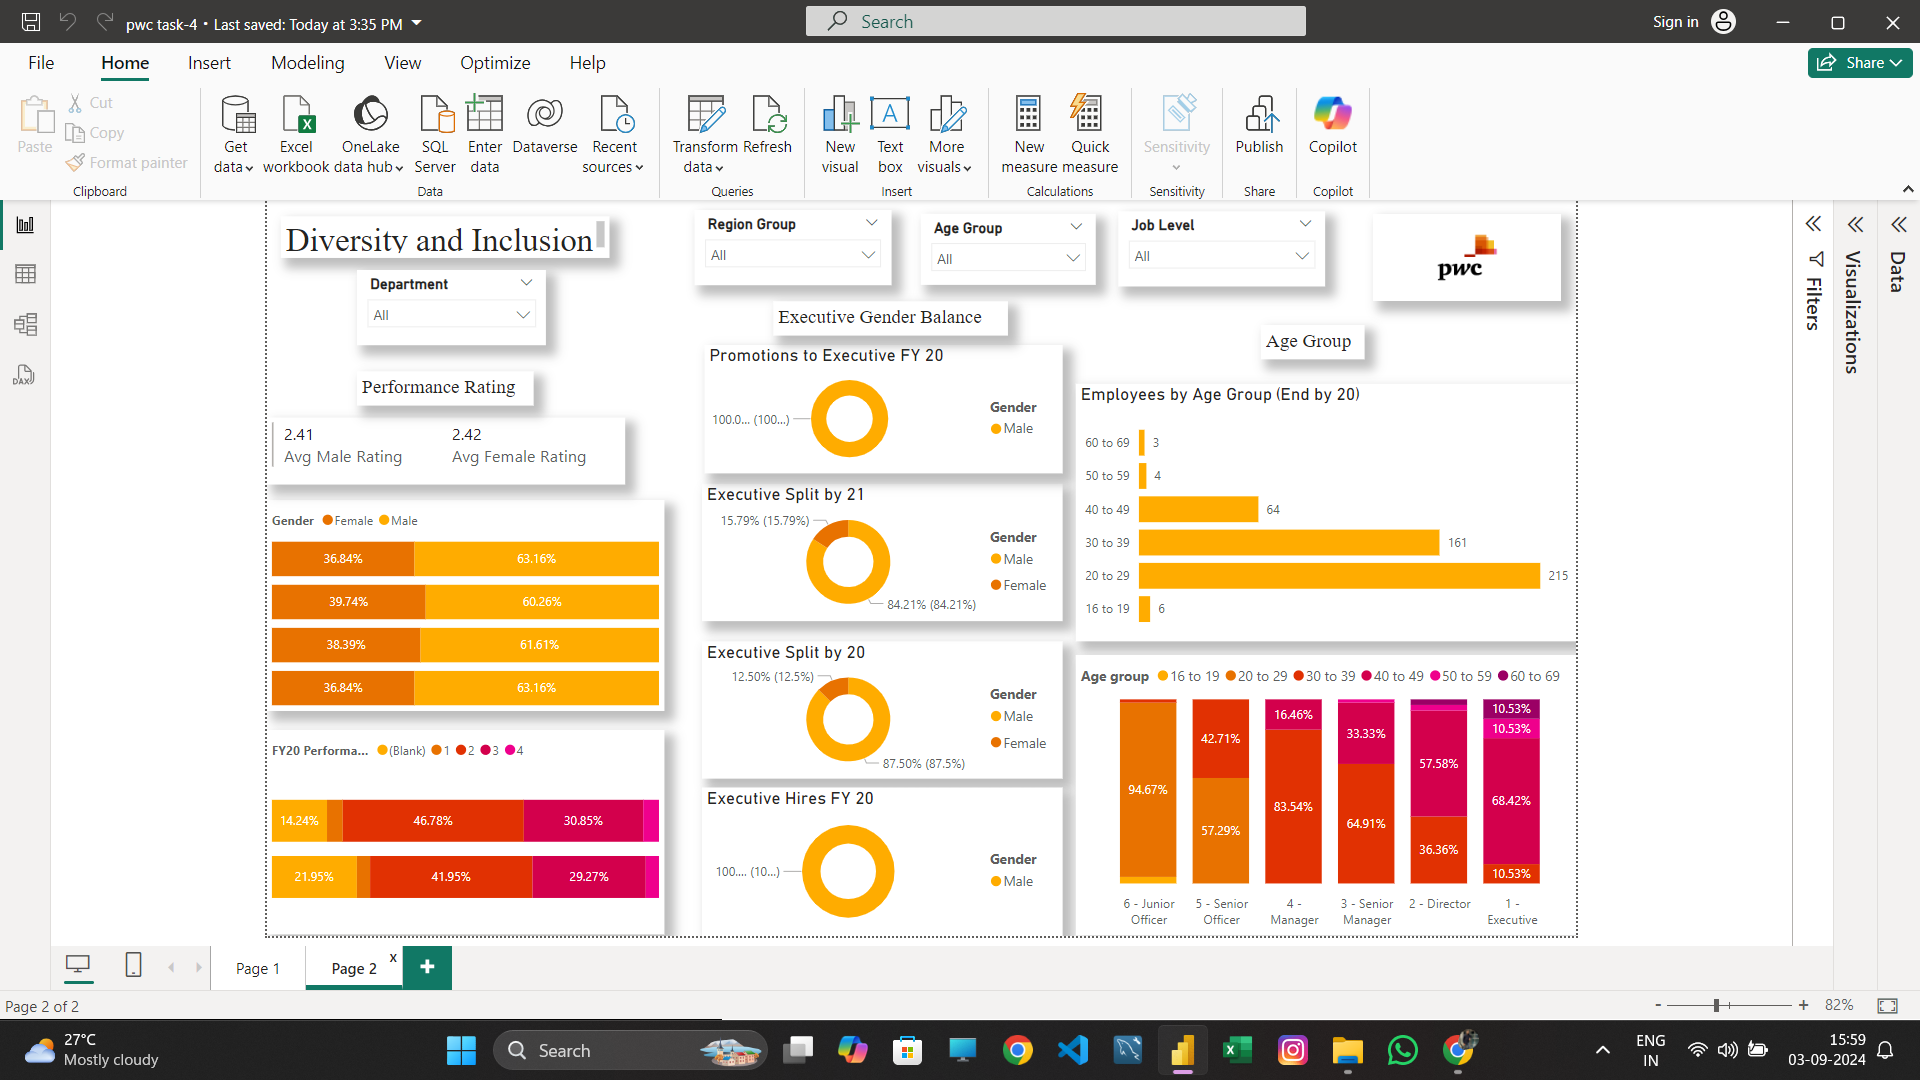

This screenshot's page, from the dashboard's own definition file:
{"tool":"powerbi","page":{"name":"Page 2","canvas":[1280,720],"ordinal":1},"visuals":[{"type":"textbox","box":[13.7,16.1,321.6,41],"z":0},{"type":"slicer","fields":{"Values":["Pharma Group AG.Last Department in FY20"]},"box":[88.2,68.3,185,73.3],"z":1000},{"type":"slicer","fields":{"Values":["Pharma Group AG.Region group: nationality 1"]},"box":[418.5,9.9,192.5,73.3],"z":2000},{"type":"slicer","fields":{"Values":["Pharma Group AG.Age group"]},"box":[639.5,13.7,171.4,69.5],"z":3000},{"type":"slicer","fields":{"Values":["Pharma Group AG.Job Level after FY20 promotions"]},"box":[833.2,11.2,202.4,73.3],"z":4000},{"type":"hundredPercentStackedBarChart","fields":{"Category":["Pharma Group AG.FY20 Performance Rating"],"Y":["Divide(CountNonNull(Pharma Group AG.Employee ID), ScopedEval(CountNonNull(Pharma Group AG.Employee ID), []))"],"Series":["Pharma Group AG.Gender"]},"box":[0,293.1,388.7,206.1],"z":5000},{"type":"hundredPercentStackedBarChart","fields":{"Category":["Pharma Group AG.Gender"],"Y":["Divide(CountNonNull(Pharma Group AG.Employee ID), ScopedEval(CountNonNull(Pharma Group AG.Employee ID), []))"],"Series":["Pharma Group AG.FY20 Performance Rating"]},"box":[0,519.1,388.7,199.9],"z":6000},{"type":"donutChart","title":"Executive Split by 20","fields":{"Category":["Pharma Group AG.Gender"],"Y":["CountNonNull(Pharma Group AG.Employee ID)"],"Series":["Pharma Group AG.Job Level after FY20 promotions"]},"box":[425.9,432.1,352.7,134.1],"z":7000},{"type":"donutChart","title":"Executive Split by 21","fields":{"Category":["Pharma Group AG.Gender"],"Y":["CountNonNull(Pharma Group AG.Employee ID)"],"Series":["Pharma Group AG.Job Level after FY21 promotions"]},"box":[425.9,278.2,352.7,134.1],"z":8000},{"type":"donutChart","title":"Executive Hires FY 20","fields":{"Category":["Pharma Group AG.Gender"],"Y":["CountNonNull(Pharma Group AG.Employee ID)"],"Series":["Pharma Group AG.Job Level after FY20 promotions"]},"box":[425.9,574.9,352.7,145.3],"z":9000},{"type":"donutChart","title":"Promotions to Executive FY 20","fields":{"Category":["Pharma Group AG.Gender"],"Y":["CountNonNull(Pharma Group AG.Employee ID)"],"Series":["Pharma Group AG.Job Level after FY20 promotions"]},"box":[428.4,141.6,350.2,125.4],"z":10000},{"type":"clusteredBarChart","title":"Employees by Age Group (End by 20)","fields":{"Category":["Pharma Group AG.Age group"],"Y":["CountNonNull(Pharma Group AG.Employee ID)"]},"box":[791,180.1,489.3,252.1],"z":11000},{"type":"hundredPercentStackedColumnChart","fields":{"Series":["Pharma Group AG.Age group"],"Category":["Pharma Group AG.Job Level after FY21 promotions"],"Y":["CountNonNull(Pharma Group AG.Employee ID)"]},"box":[791,444.5,489.3,274.4],"z":12000},{"type":"multiRowCard","fields":{"Values":["Pharma Group AG.Avg Male Rating","Pharma Group AG.Avg Female Rating"]},"box":[0,212.3,350.2,65.8],"z":13000},{"type":"textbox","box":[88.2,167.6,172.6,33.5],"z":14000},{"type":"textbox","box":[495.5,99.3,229.7,33.5],"z":15000},{"type":"textbox","box":[972.3,121.7,101.8,33.5],"z":16000},{"type":"image","box":[1082.8,13.7,183.8,85.7],"z":16001}]}

Visuals, with their boxes on the page's 1280x720 design canvas (x1, y1, x2, y2). These are canvas units, not pixel positions in the 1920x1080 screenshot, which may show the page scaled, cropped or inside an application window:
textbox: x1=14, y1=16, x2=335, y2=57
slicer - Pharma Group AG.Last Department in FY20: x1=88, y1=68, x2=273, y2=142
slicer - Pharma Group AG.Region group: nationality 1: x1=418, y1=10, x2=611, y2=83
slicer - Pharma Group AG.Age group: x1=640, y1=14, x2=811, y2=83
slicer - Pharma Group AG.Job Level after FY20 promotions: x1=833, y1=11, x2=1036, y2=84
hundredPercentStackedBarChart - Pharma Group AG.FY20 Performance Rating x Divide(CountNonNull(Pharma Group AG.Employee ID), ScopedEval(CountNonNull(Pharma Group AG.Employee ID), [])): x1=0, y1=293, x2=389, y2=499
hundredPercentStackedBarChart - Pharma Group AG.Gender x Divide(CountNonNull(Pharma Group AG.Employee ID), ScopedEval(CountNonNull(Pharma Group AG.Employee ID), [])): x1=0, y1=519, x2=389, y2=719
"Executive Split by 20" donutChart: x1=426, y1=432, x2=779, y2=566
"Executive Split by 21" donutChart: x1=426, y1=278, x2=779, y2=412
"Executive Hires FY 20" donutChart: x1=426, y1=575, x2=779, y2=720
"Promotions to Executive FY 20" donutChart: x1=428, y1=142, x2=779, y2=267
"Employees by Age Group (End by 20)" clusteredBarChart: x1=791, y1=180, x2=1280, y2=432
hundredPercentStackedColumnChart - Pharma Group AG.Age group x Pharma Group AG.Job Level after FY21 promotions: x1=791, y1=444, x2=1280, y2=719
multiRowCard - Pharma Group AG.Avg Male Rating x Pharma Group AG.Avg Female Rating: x1=0, y1=212, x2=350, y2=278
textbox: x1=88, y1=168, x2=261, y2=201
textbox: x1=496, y1=99, x2=725, y2=133
textbox: x1=972, y1=122, x2=1074, y2=155
image: x1=1083, y1=14, x2=1267, y2=99
